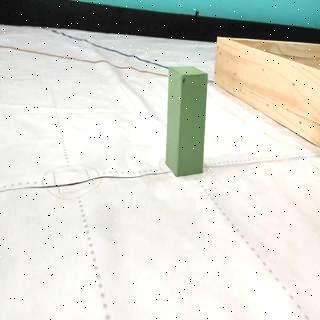greenbox: (164, 66, 208, 177)
